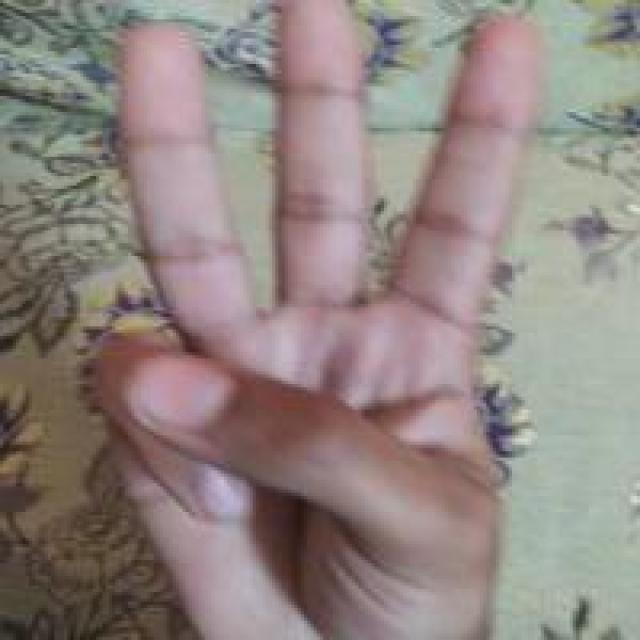W: (86, 0, 538, 640)
